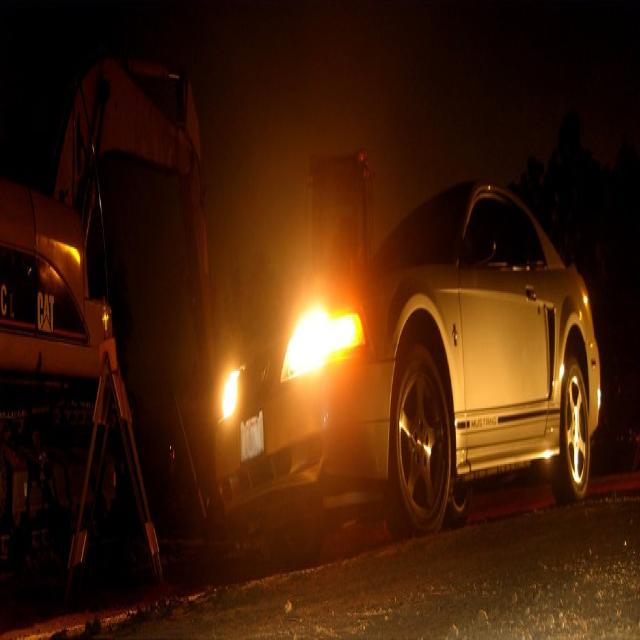Car: (212, 183, 599, 542)
